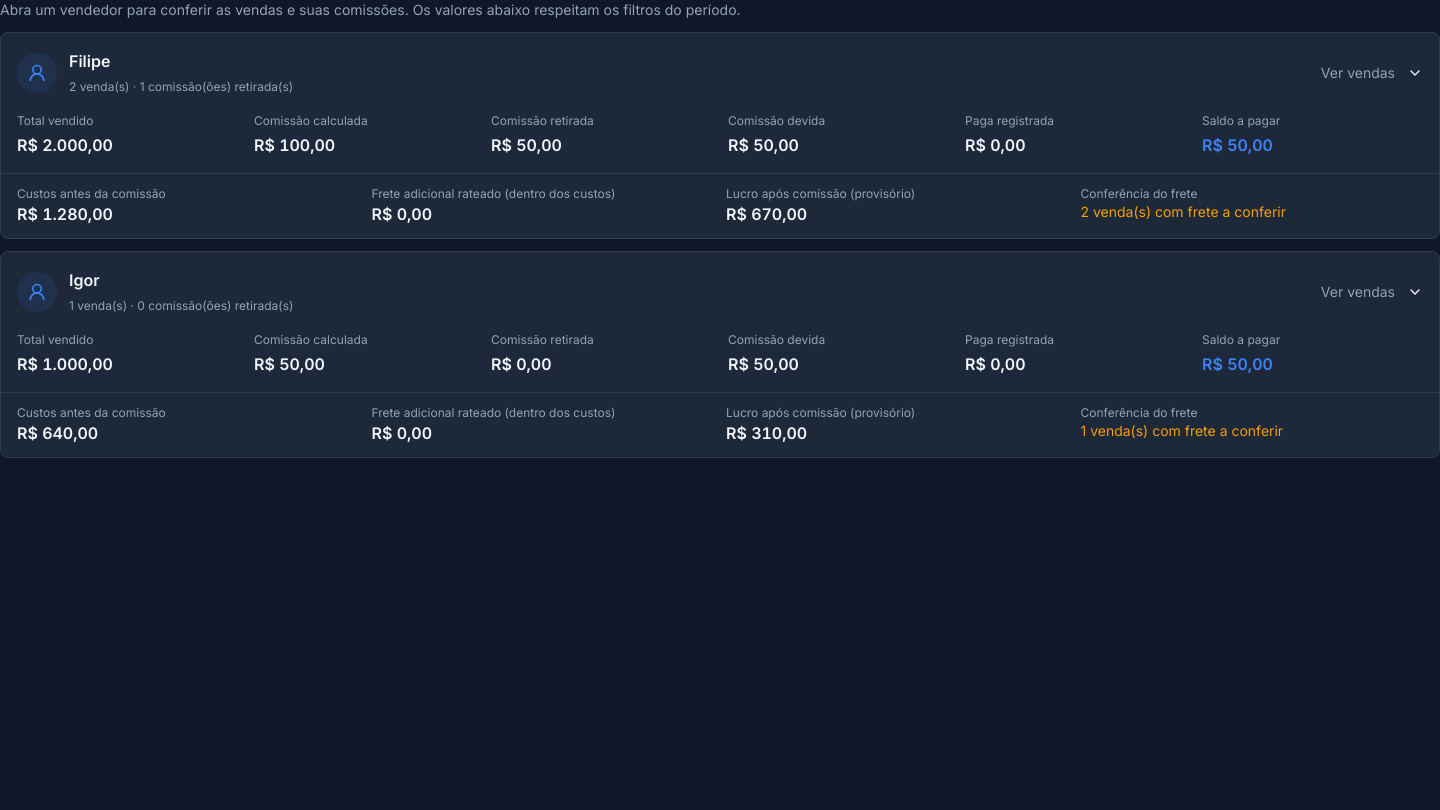
Scenario: Painel por vendedor › altera somente as selecionadas aplicáveis e limpa seleção ao disparar
The width and height of the screenshot is (1440, 810).
Later steps or results of the test are not shown.
Click the button "Filipe 2 venda(s) · 1 comissão(ões) retirada(s) Ver vendas" at (37,73), box [1,33,1439,113]
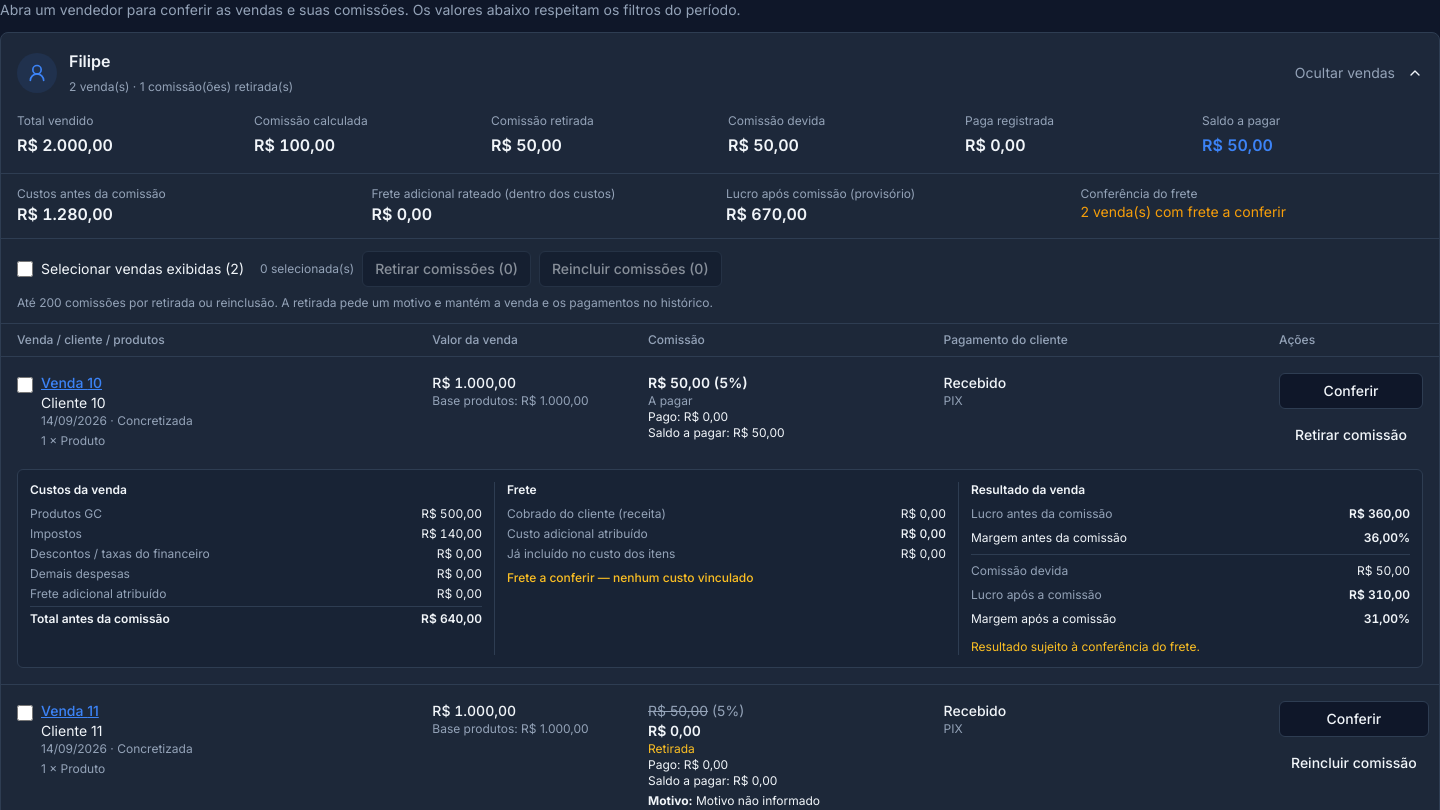
Click the checkbox named "Selecionar todas as 2 vendas exibidas de Filipe" at (25,269), box [17,261,33,277]
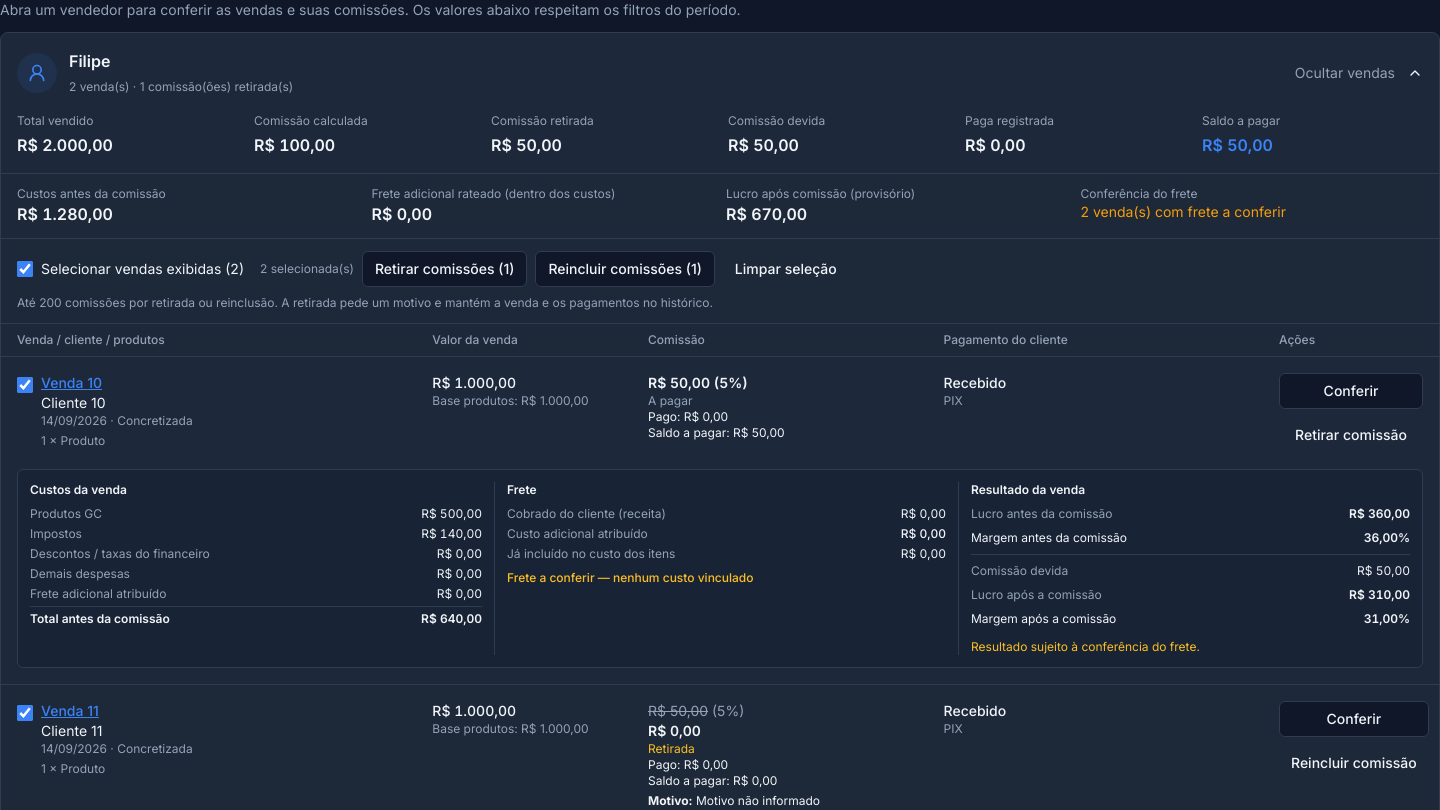
Click the button "Retirar comissões (1)" at (445,269), box [362,251,527,287]
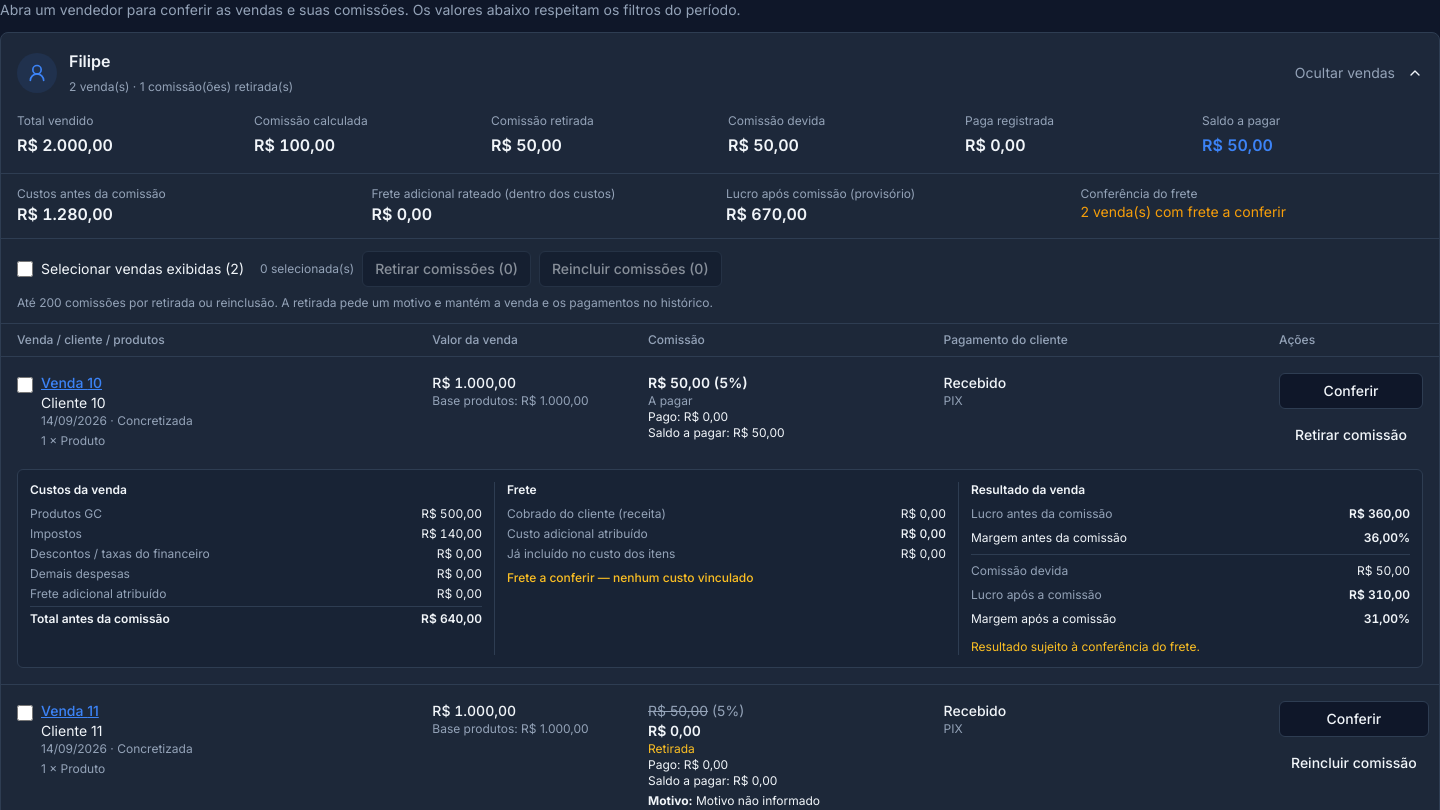
Now the button "Retirar comissões (0)" is disabled, box [362,251,531,287]
